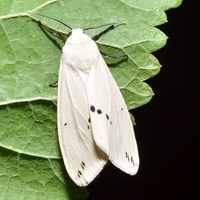insect: (57, 28, 138, 185)
